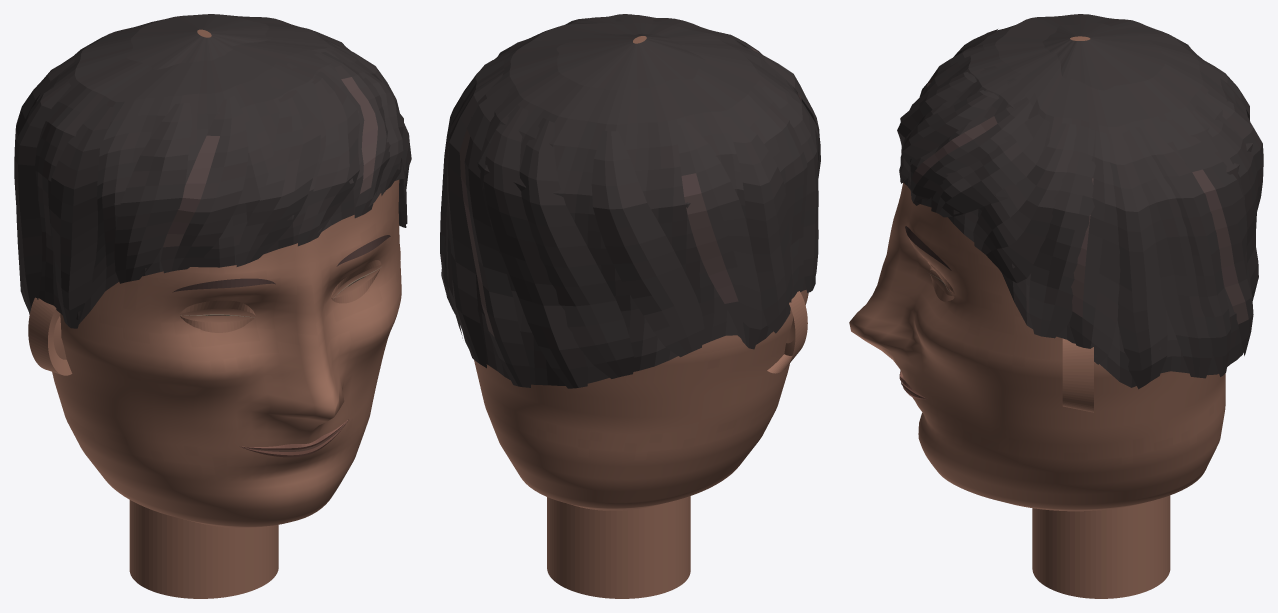
File: ada.glb
The picture shows the model from 3 angles, left to right: view 1: azimuth 30°, elevation 25°; view 2: azimuth 150°, elevation 25°; view 3: azimuth 270°, elevation 25°; orthographic projection. The views are drawn at different scales.
Visible parts, largest first — view 1: Viso, Pettinatura, Collo, Ciocca.015, Ciocca.016, Ciocca.017, Ciocca.018, Ciocca, Ciocca.014, Ciocca.001, OrecchioL, Ciocca.002 (+6 smaller); view 2: Pettinatura, Viso, Collo, Ciocca.012, Ciocca.011, Ciocca.010, Ciocca.013, Ciocca.009, Ciocca.014, Ciocca.008, Ciocca.015, Ciocca.006 (+3 smaller); view 3: Viso, Pettinatura, Collo, Ciocca.006, Ciocca.007, Ciocca.003, Ciocca.004, Ciocca.005, Ciocca.008, Ciocca.009, Ciocca.002, Ciocca.001 (+5 smaller).
Boxes of the visible parts, x1,y1,x2,y2 form: Viso: [52, 29, 401, 527]; Pettinatura: [25, 14, 407, 323]; Collo: [129, 500, 278, 598]; Ciocca.015: [50, 104, 115, 328]; Ciocca.016: [114, 102, 191, 283]; Ciocca.017: [160, 95, 248, 273]; Ciocca.018: [236, 76, 320, 266]; Ciocca: [287, 61, 359, 246]; Ciocca.014: [14, 78, 70, 314]; Ciocca.001: [314, 52, 390, 218]; OrecchioL: [28, 297, 72, 375]; Ciocca.002: [330, 48, 403, 195]; Pettinatura: [442, 14, 819, 385]; Viso: [474, 36, 808, 510]; Collo: [547, 496, 690, 598]; Ciocca.012: [591, 130, 704, 357]; Ciocca.011: [519, 118, 634, 378]; Ciocca.010: [483, 105, 587, 388]; Ciocca.013: [675, 122, 761, 349]; Ciocca.009: [459, 85, 530, 387]; Ciocca.014: [723, 115, 792, 333]; Ciocca.008: [447, 70, 503, 368]; Ciocca.015: [761, 81, 818, 292]; Ciocca.006: [440, 57, 506, 291]; Viso: [849, 36, 1225, 511]; Pettinatura: [902, 14, 1252, 387]; Collo: [1032, 495, 1170, 598]; Ciocca.006: [1106, 133, 1167, 389]; Ciocca.007: [1122, 128, 1212, 378]; Ciocca.003: [973, 123, 1076, 283]; Ciocca.004: [1029, 126, 1095, 338]; Ciocca.005: [1069, 129, 1120, 364]; Ciocca.008: [1135, 125, 1230, 376]; Ciocca.009: [1162, 119, 1253, 355]; Ciocca.002: [931, 114, 1049, 217]; Ciocca.001: [910, 97, 1032, 205].
Size of the model in its own units: 0.434 by 0.629 by 0.4507.
